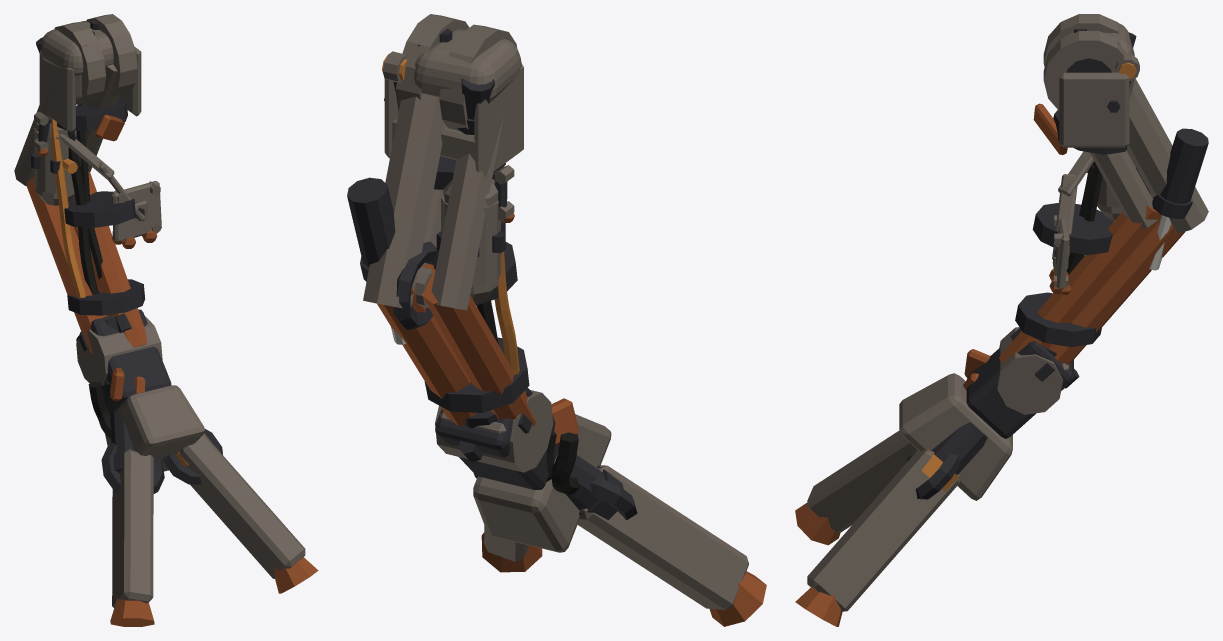
Rendered from ar_harpoon.glb.
3 renders of one model, left to right at view 1: azimuth 30°, elevation 25°; view 2: azimuth 150°, elevation 25°; view 3: azimuth 270°, elevation 25°, orthographic. The views are drawn at different scales.
Parts seen in each view (by area): view 1: ar_harpoon; view 2: ar_harpoon; view 3: ar_harpoon.
Part boxes in pixels (box(x1,y1,x2,y2)): ar_harpoon: box(14, 14, 318, 626); ar_harpoon: box(347, 14, 766, 626); ar_harpoon: box(795, 14, 1208, 626).
Bounding box in the file's own units: 0.209 × 0.4873 × 0.329.
